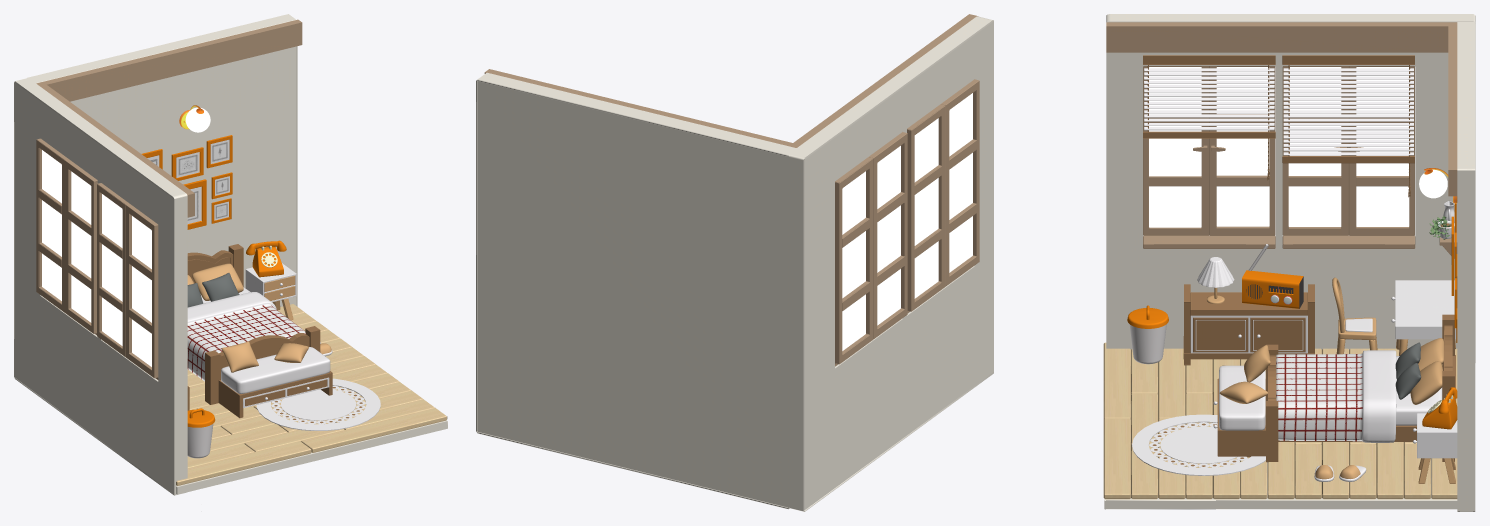
File: room.glb
3 renders of one model, left to right at view 1: azimuth 30°, elevation 25°; view 2: azimuth 150°, elevation 25°; view 3: azimuth 270°, elevation 25°, orthographic. The views are drawn at different scales.
Parts seen in each view (by area): view 1: floor, frame, trashcan, phone, wallLight; view 2: floor; view 3: floor, radio, trashcan, tableLamp, phone, wallLight, frame.
Boxes of the visible parts, x1,y1,x2,y2 form: floor: (14,14,447,495); frame: (142,135,232,229); trashcan: (187,408,215,458); phone: (246,240,286,277); wallLight: (179,105,210,132); floor: (476,14,993,511); floor: (1103,14,1475,511); radio: (1242,244,1303,308); trashcan: (1127,305,1168,364); tableLamp: (1197,257,1234,304); phone: (1422,387,1457,429); wallLight: (1419,168,1457,202); frame: (1451,203,1457,342).
Bounding box in the file's own units: 3.41 × 3.46 × 3.89.
9 materials, 8 textured.
